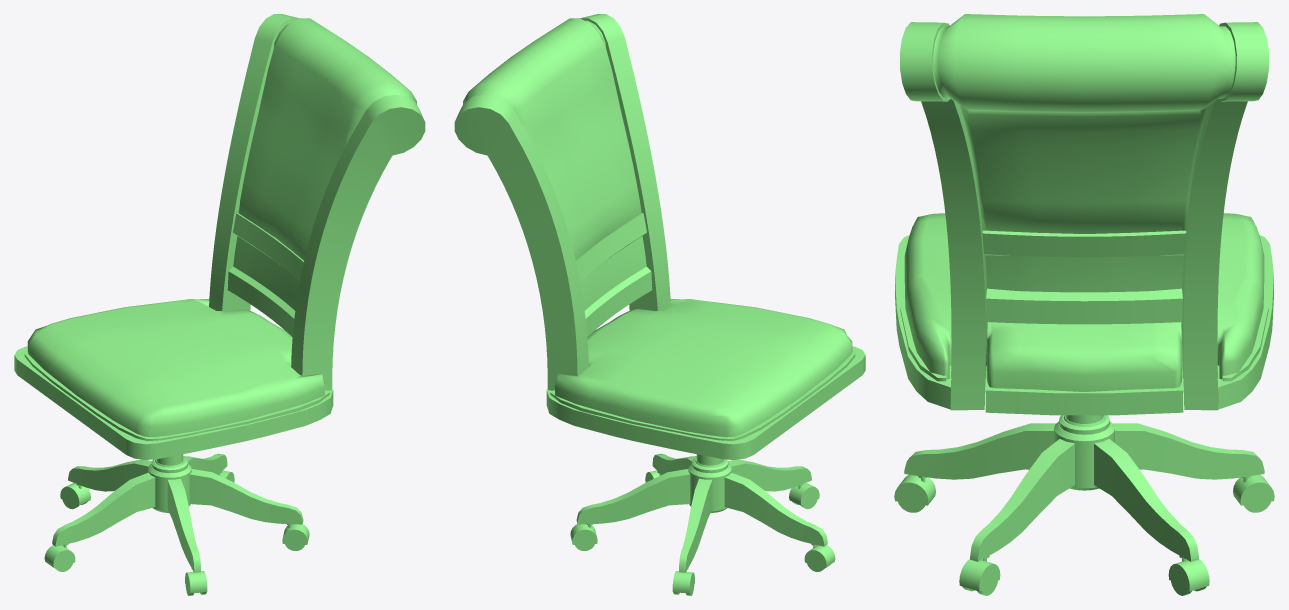
Rendered from Office_chair.fbx.
3 views of the same model, side by side, from view 1: azimuth 30°, elevation 25°; view 2: azimuth 150°, elevation 25°; view 3: azimuth 270°, elevation 25° (orthographic). The views are drawn at different scales.
Parts seen in each view (by area): view 1: SM_Office_chair; view 2: SM_Office_chair; view 3: SM_Office_chair.
Boxes of the visible parts, x1=… form: SM_Office_chair: x1=14, y1=14, x2=425, y2=595; SM_Office_chair: x1=454, y1=14, x2=865, y2=595; SM_Office_chair: x1=894, y1=14, x2=1274, y2=595.
Bounding box in the file's own units: 86.49 × 114 × 62.21.
